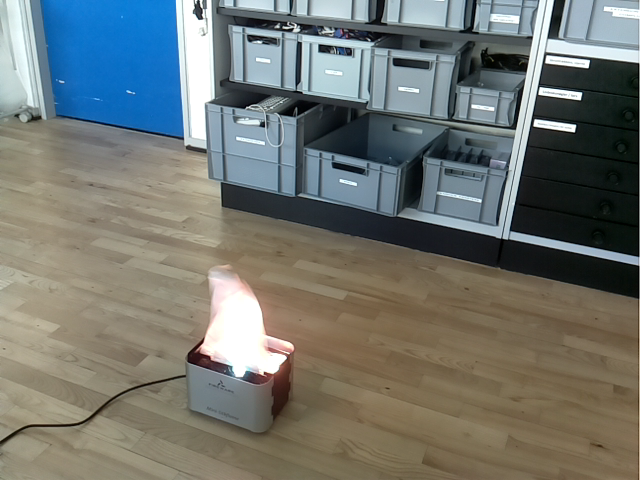fire: (200, 264, 279, 375)
